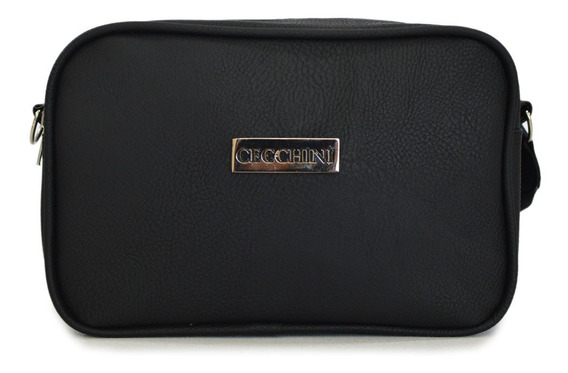cartera: (26, 16, 543, 342)
